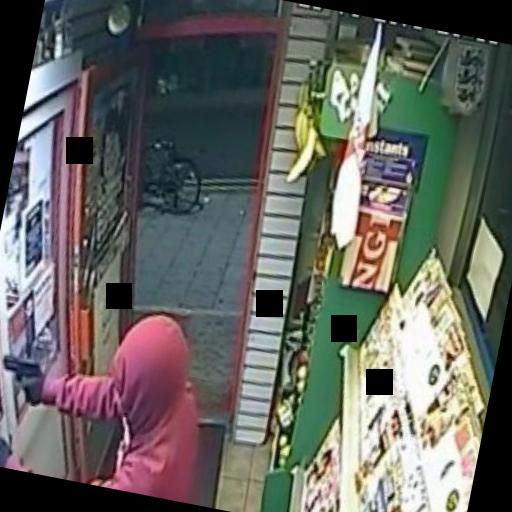Handgun: (0, 351, 48, 409)
